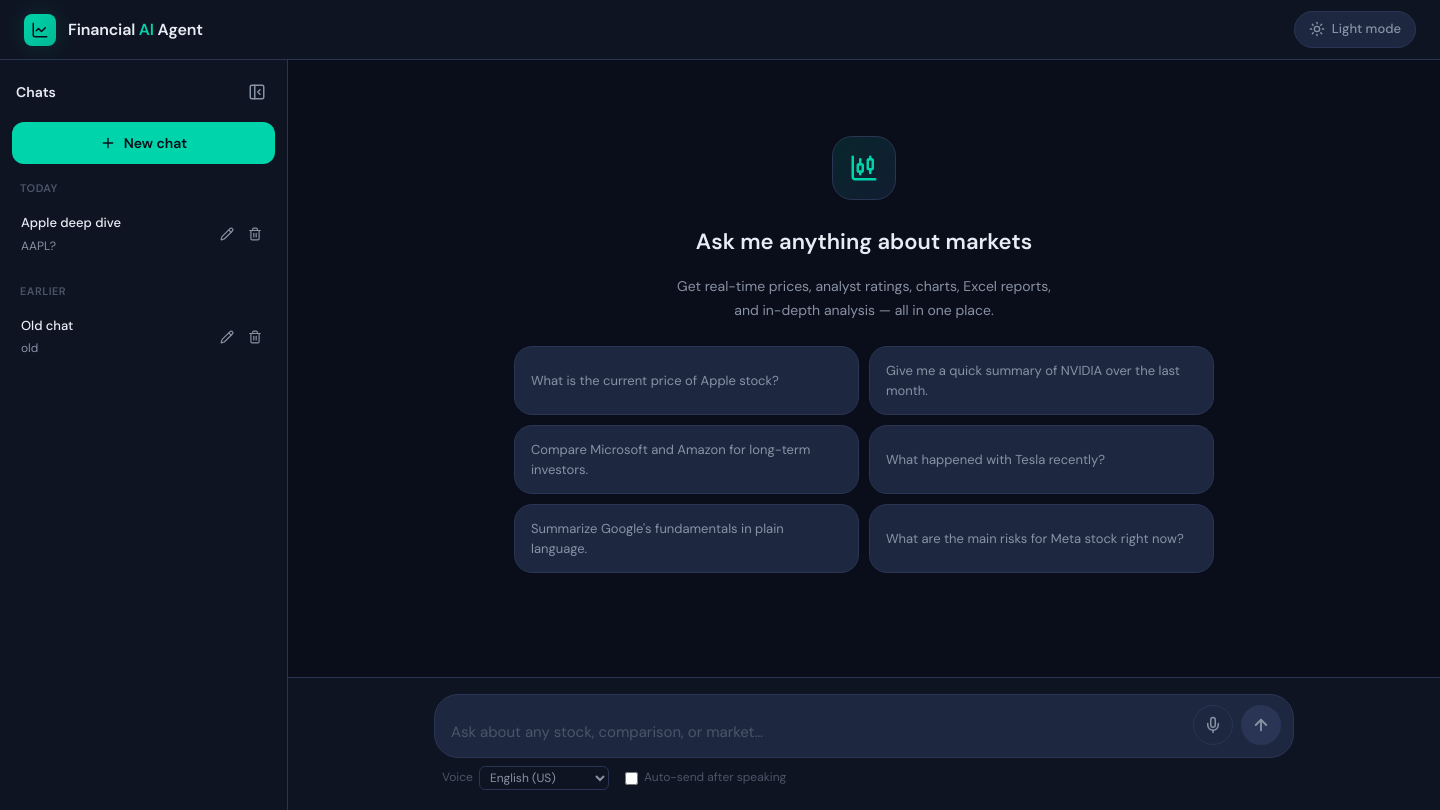
Test: App sidebar › escape cancels a rename without a request
Expected: the text "Apple deep dive" is shown, [21,214,121,231]
Click the button named "Rename Apple deep dive": [227, 234] box [214,222,240,248]
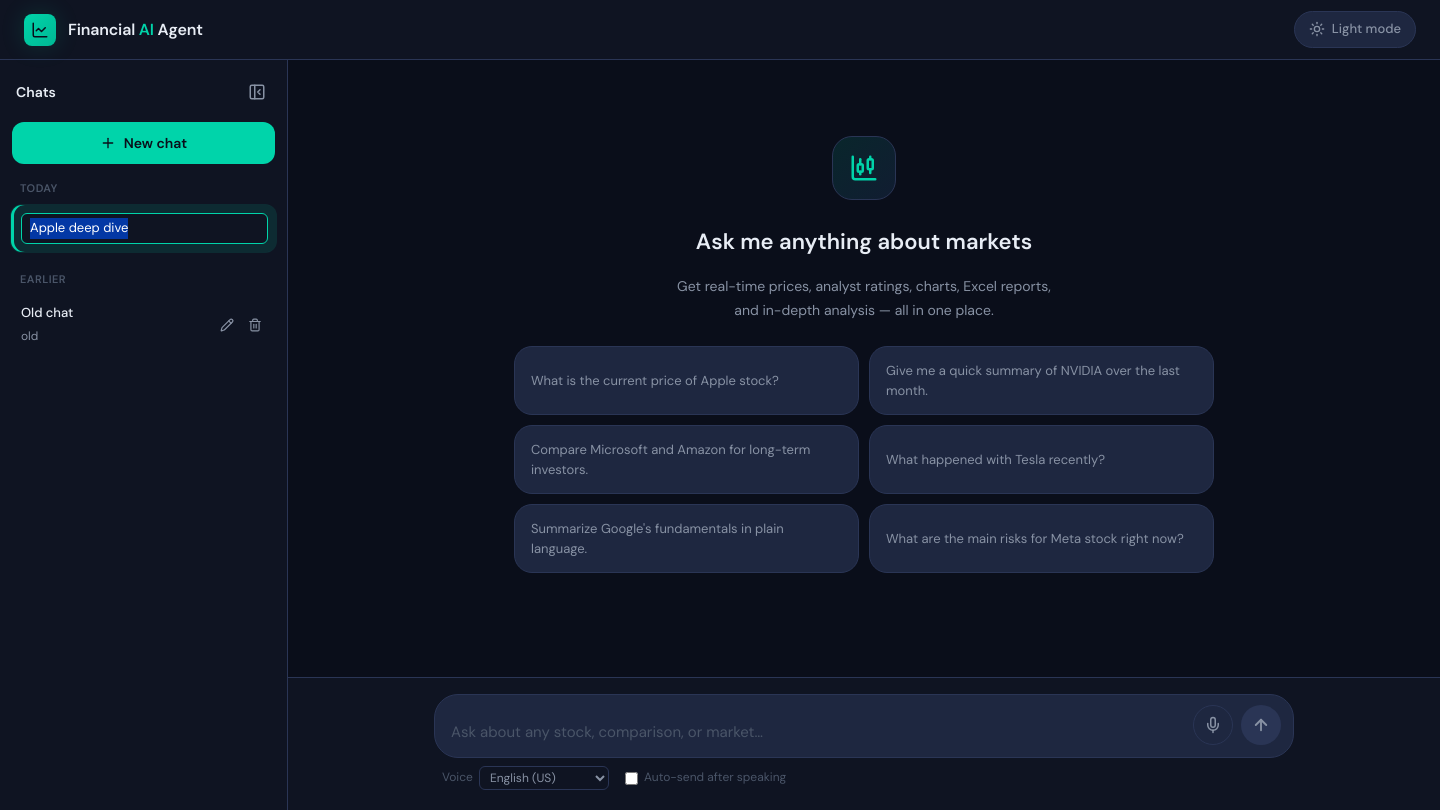
Replace the text in the field named "Chat title" with "nope": [144, 228] box [21,213,268,244]
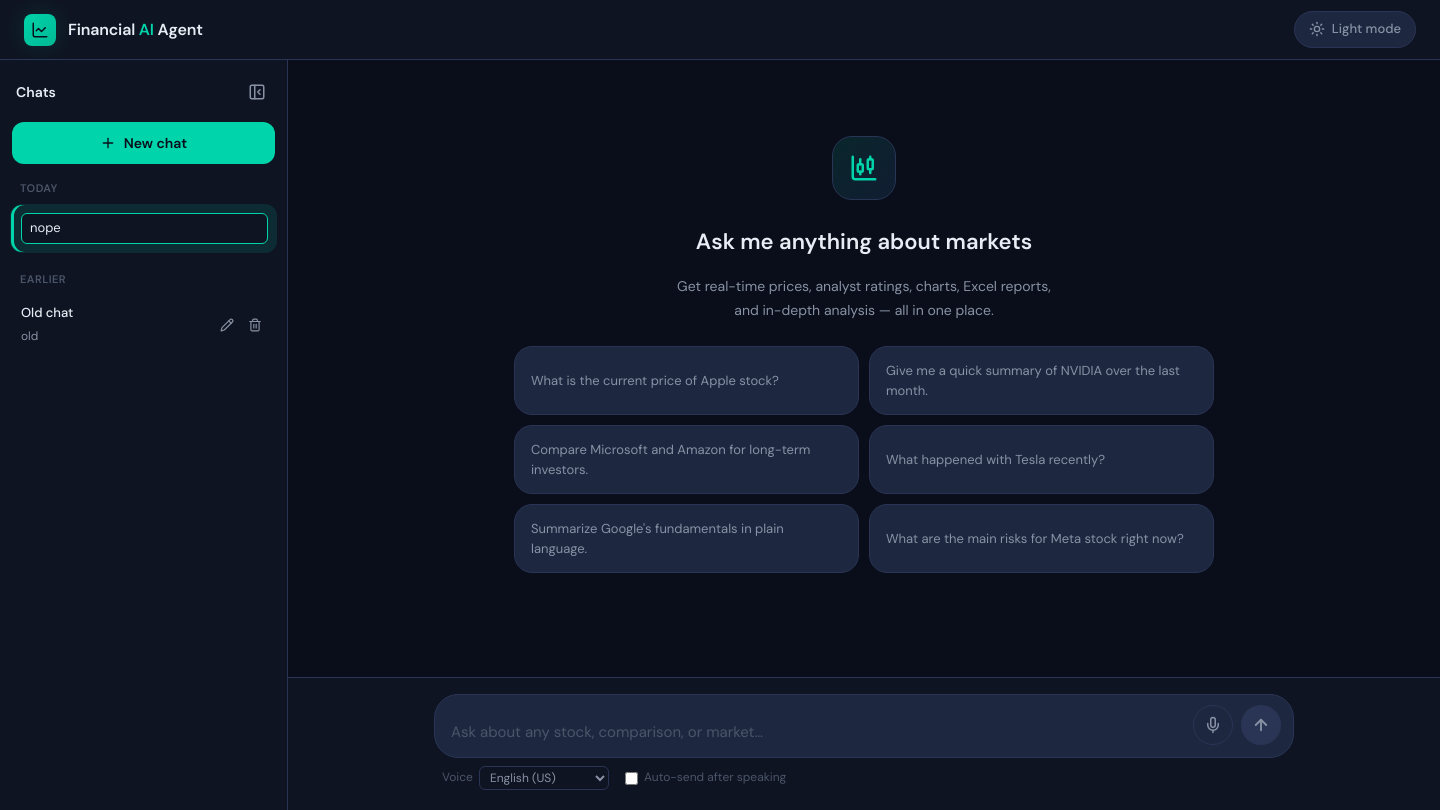
Press Escape in the field named "Chat title", box [21,213,268,244]
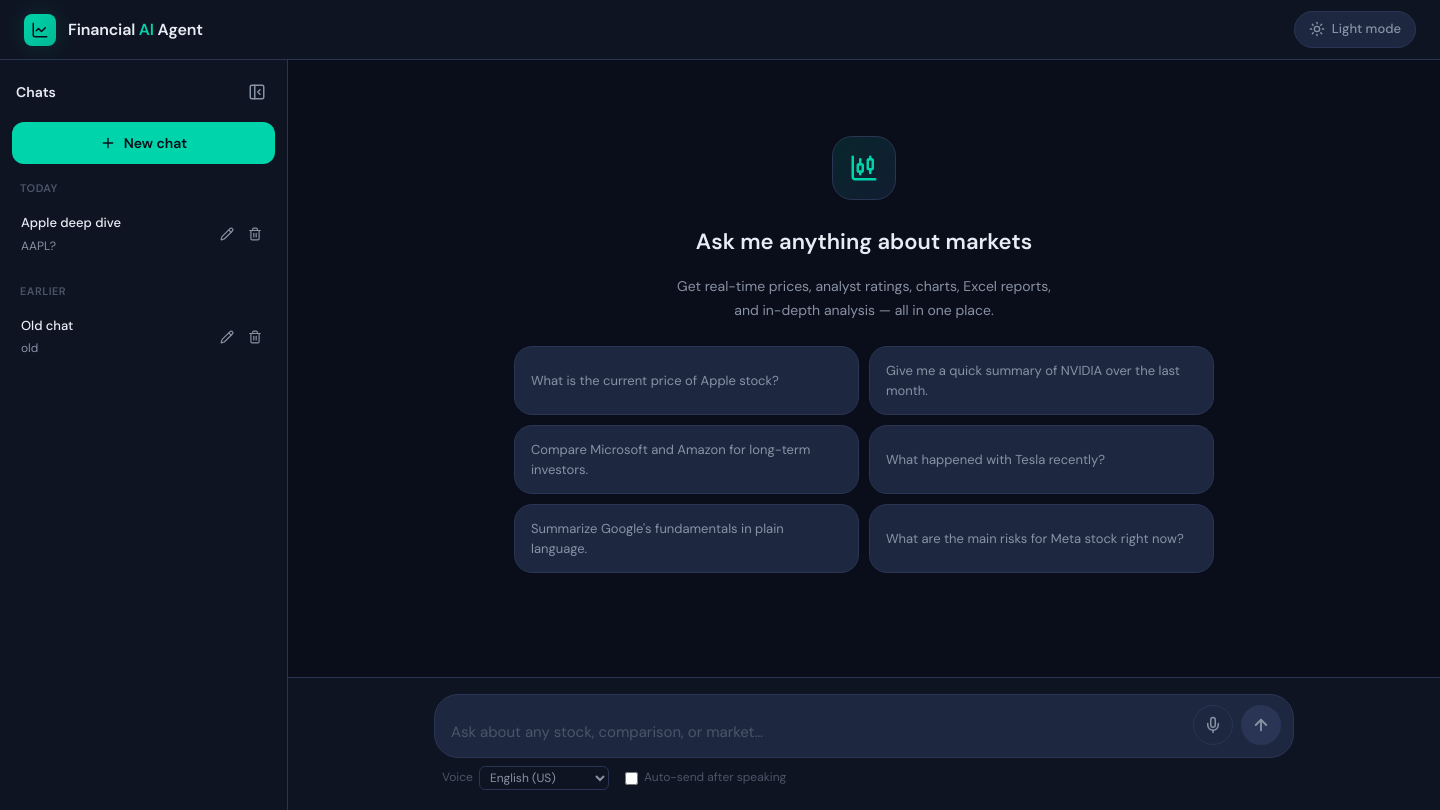
Expected: the text "Apple deep dive" is shown, [21,214,121,231]
